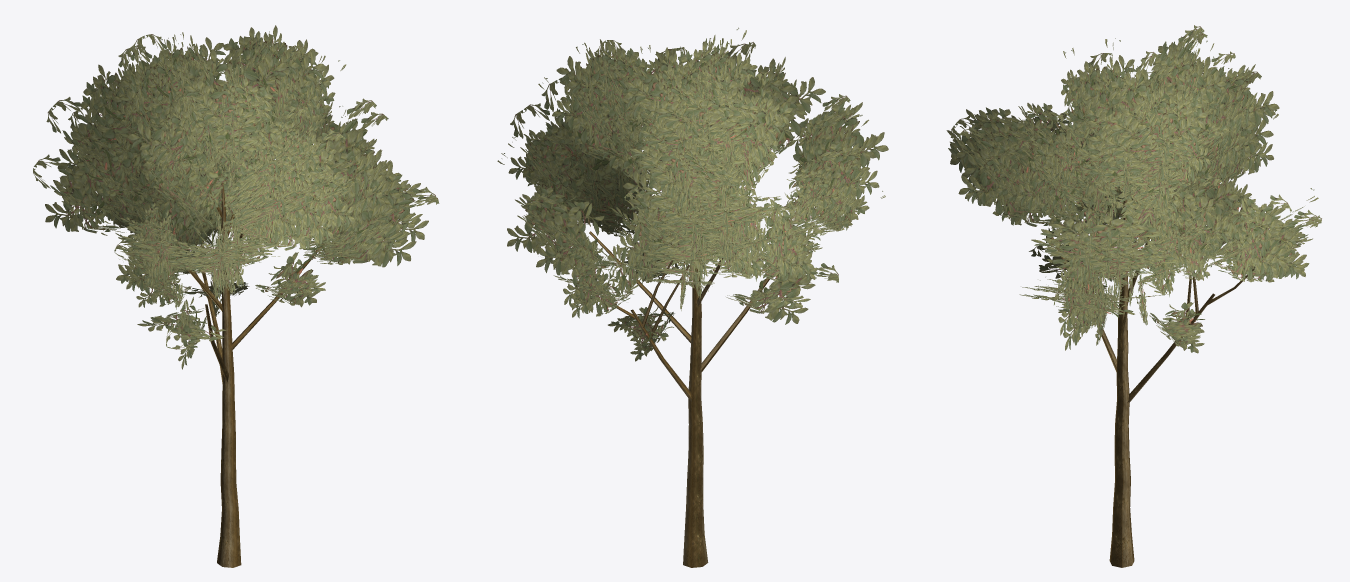
The model's file is SM_Alder_02_LOD.gltf.
The picture shows the model from 3 angles, left to right: view 1: azimuth 30°, elevation 25°; view 2: azimuth 150°, elevation 25°; view 3: azimuth 270°, elevation 25°; orthographic projection. The views are drawn at different scales.
Visible parts, largest first — view 1: SM_Alder_02_LOD; view 2: SM_Alder_02_LOD; view 3: SM_Alder_02_LOD.
Boxes of the visible parts, x1,y1,x2,y2 form: SM_Alder_02_LOD: (33, 25, 439, 567); SM_Alder_02_LOD: (497, 27, 888, 567); SM_Alder_02_LOD: (946, 25, 1321, 567).
Size of the model in its own units: 10.86 by 15.08 by 10.49.
Materials: 2 (2 with a texture image).
